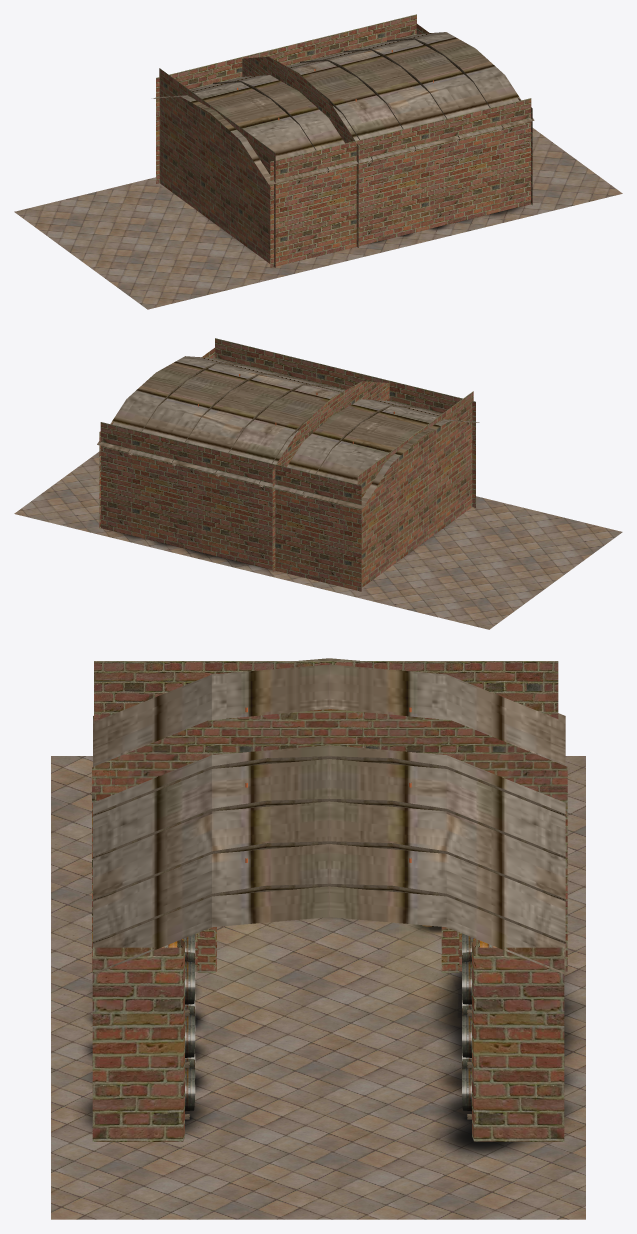
The model's file is PAred.gltf.
3 views of the same model, one above another, from view 1: azimuth 30°, elevation 25°; view 2: azimuth 150°, elevation 25°; view 3: azimuth 270°, elevation 25° (orthographic). The views are drawn at different scales.
Parts seen in each view (by area): view 1: PAred, Suelo, Techo, PAred.001, wall_2, vigas; view 2: PAred, Suelo, Techo, PAred.001, wall_2, vigas, Suelo.001; view 3: Suelo, Techo, Bases, wall_2, PAred.001, vigas, Suelo.001, Barrel_low, Light_gradient, arch.
Boxes of the visible parts, x1,y1,x2,y2 form: PAred: (156,14,531,267); Suelo: (14,128,622,309); Techo: (153,32,534,185); PAred.001: (159,68,275,267); wall_2: (242,56,358,247); vigas: (213,38,503,173); PAred: (100,338,475,591); Suelo: (14,452,622,629); Techo: (97,356,479,509); PAred.001: (357,391,473,587); wall_2: (272,381,389,571); vigas: (128,362,418,497); Suelo.001: (113,531,439,571); Suelo: (51,756,585,1219); Techo: (93,658,565,974); Bases: (92,939,564,1141); wall_2: (92,709,567,971); PAred.001: (94,661,558,721); vigas: (93,756,565,943); Suelo.001: (80,918,579,1155); Barrel_low: (162,933,496,1111); Light_gradient: (229,924,433,964); arch: (197,927,459,972).
Bounding box in the file's own units: 67.12 × 18.39 × 32.7.
Materials: 7 (6 with a texture image).
